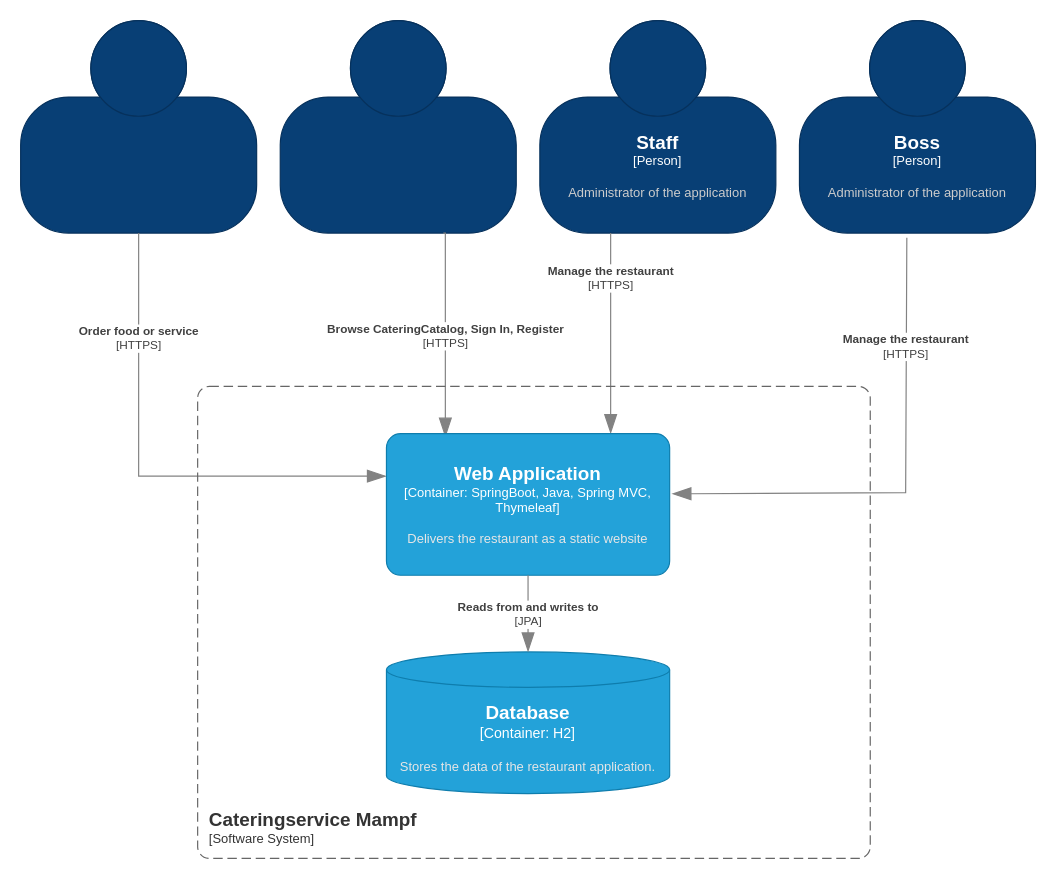
Some shapes in this 1056 by 879 pixel diagram are drawn without their labels. Each missing label, with the centre of its shape:
"Customer [Person] User, who is logged in an account" goes at point 138,126.
"Unauthenticated User [Person] A visitor of the restaurant" goes at point 397,126.
